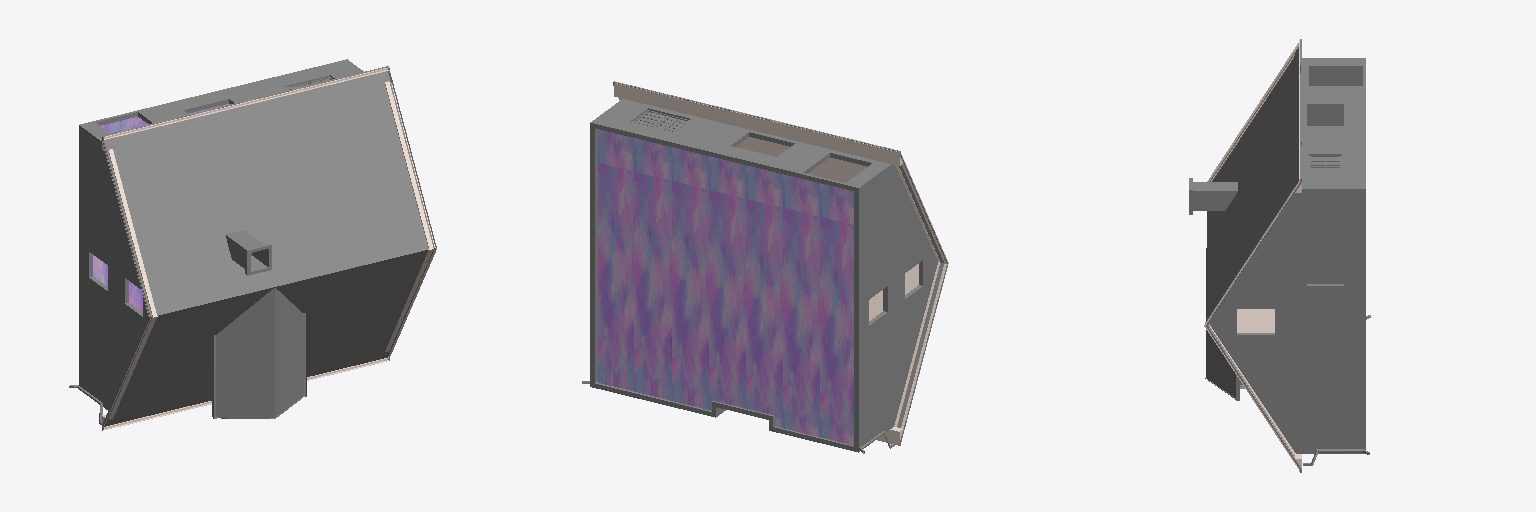
3 renders of one model, left to right at view 1: azimuth 30°, elevation 25°; view 2: azimuth 150°, elevation 25°; view 3: azimuth 270°, elevation 25°, orthographic.
Parts seen in each view (by area): view 1: Object003, Object002, Object005; view 2: Object002, Object005, Object003; view 3: Object002, Object003, Object005.
Boxes of the visible parts, x1,y1,x2,y2 form: Object003: [102, 71, 434, 426]; Object002: [69, 59, 388, 430]; Object005: [102, 67, 436, 429]; Object002: [582, 81, 947, 453]; Object005: [614, 81, 948, 445]; Object003: [897, 156, 947, 441]; Object002: [1189, 39, 1370, 472]; Object003: [1207, 47, 1298, 455]; Object005: [1204, 40, 1301, 471].
Bounding box in the file's own units: 13134 × 12844 × 7225.
7 materials, 2 textured.